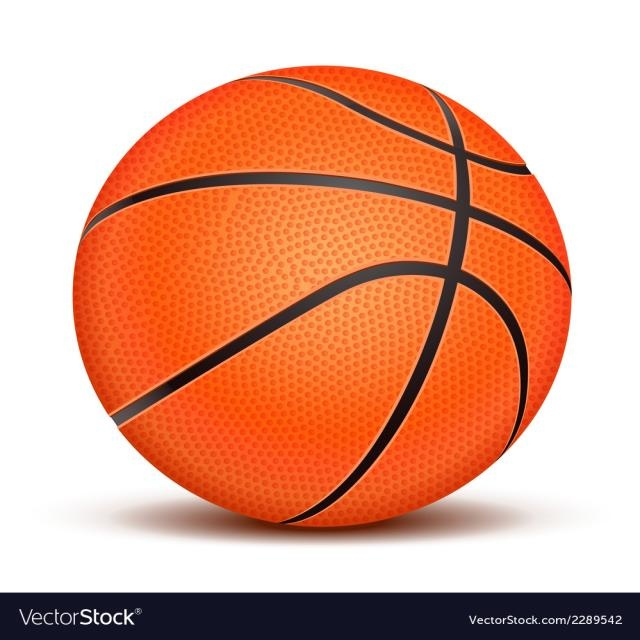agrume: (53, 90, 640, 531)
